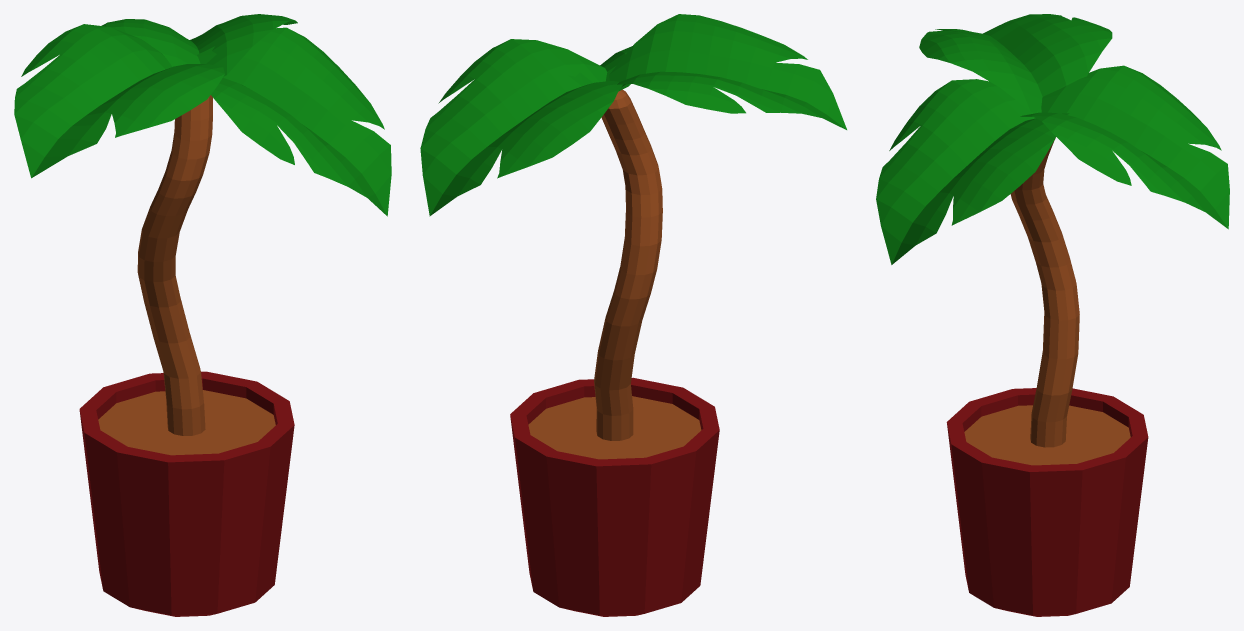
File: plant with animation.glb
3 renders of one model, left to right at view 1: azimuth 30°, elevation 25°; view 2: azimuth 150°, elevation 25°; view 3: azimuth 270°, elevation 25°, orthographic. The views are drawn at different scales.
Visible parts, largest first — view 1: plant pot, leaf, leaf.002, trunk, plant dirt, leaf.001; view 2: plant pot, leaf.001, leaf, trunk, plant dirt; view 3: plant pot, leaf.002, leaf.001, leaf, trunk, plant dirt.
Boxes of the visible parts, x1,y1,x2,y2 form: plant pot: (79, 371, 294, 616); leaf: (14, 24, 224, 178); leaf.002: (197, 27, 391, 216); trunk: (137, 95, 212, 435); plant dirt: (98, 390, 275, 455); leaf.001: (101, 14, 297, 76); plant pot: (510, 377, 719, 616); leaf.001: (420, 39, 623, 216); leaf: (609, 14, 846, 129); trunk: (594, 89, 662, 440); plant dirt: (528, 396, 701, 459); plant pot: (946, 388, 1148, 616); leaf.002: (876, 79, 1069, 264); leaf.001: (1020, 65, 1229, 229); leaf: (919, 14, 1112, 112); trunk: (1010, 137, 1079, 447); plant dirt: (964, 405, 1130, 465).
Size of the model in its own units: 0.7678 by 1.19 by 0.7282.
